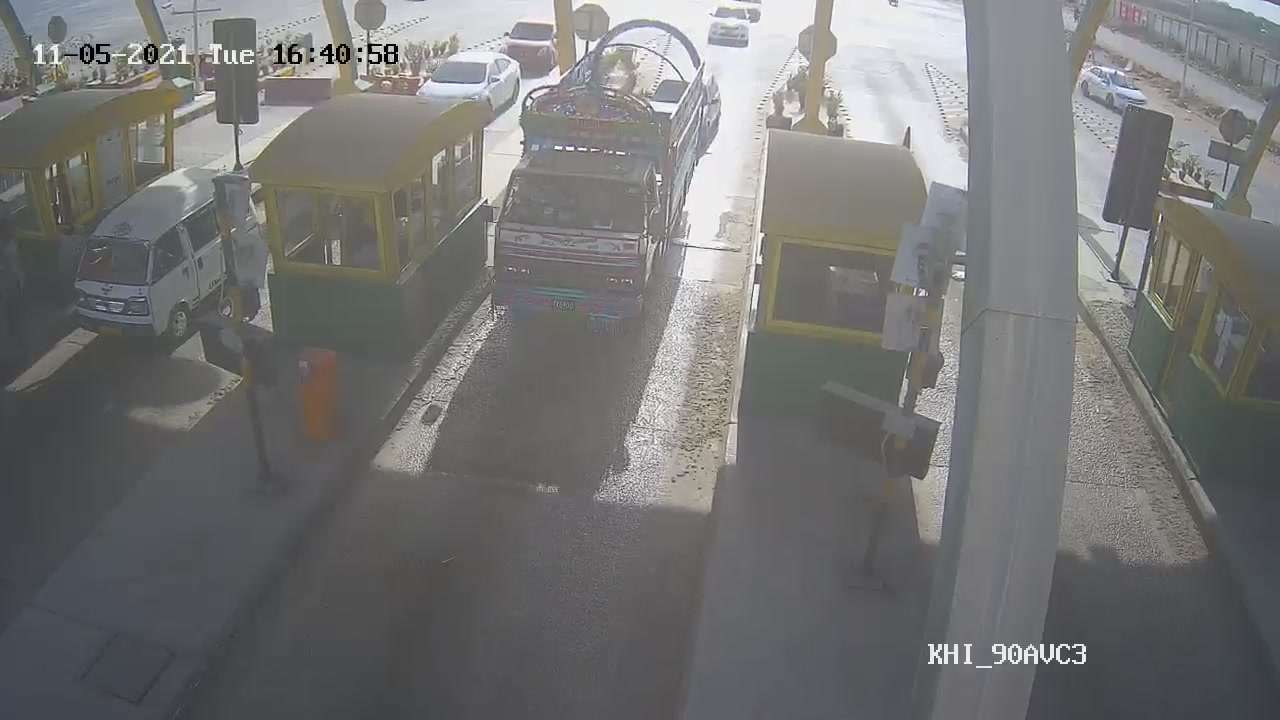F5: (478, 20, 710, 334)
